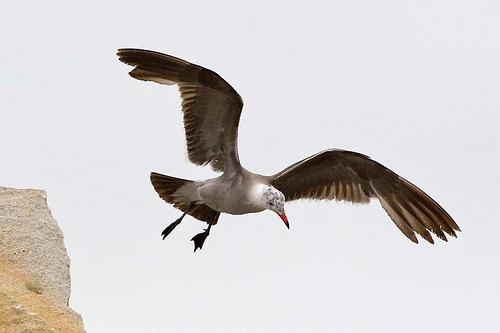bird: (112, 46, 462, 254)
